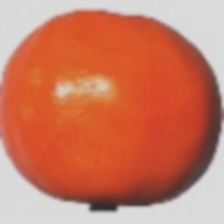tangerine: (28, 33, 186, 184)
